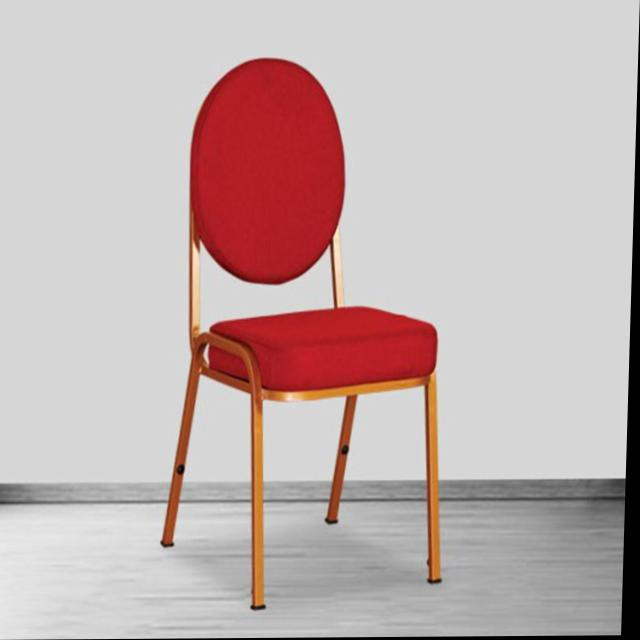Chair: (162, 58, 459, 619)
